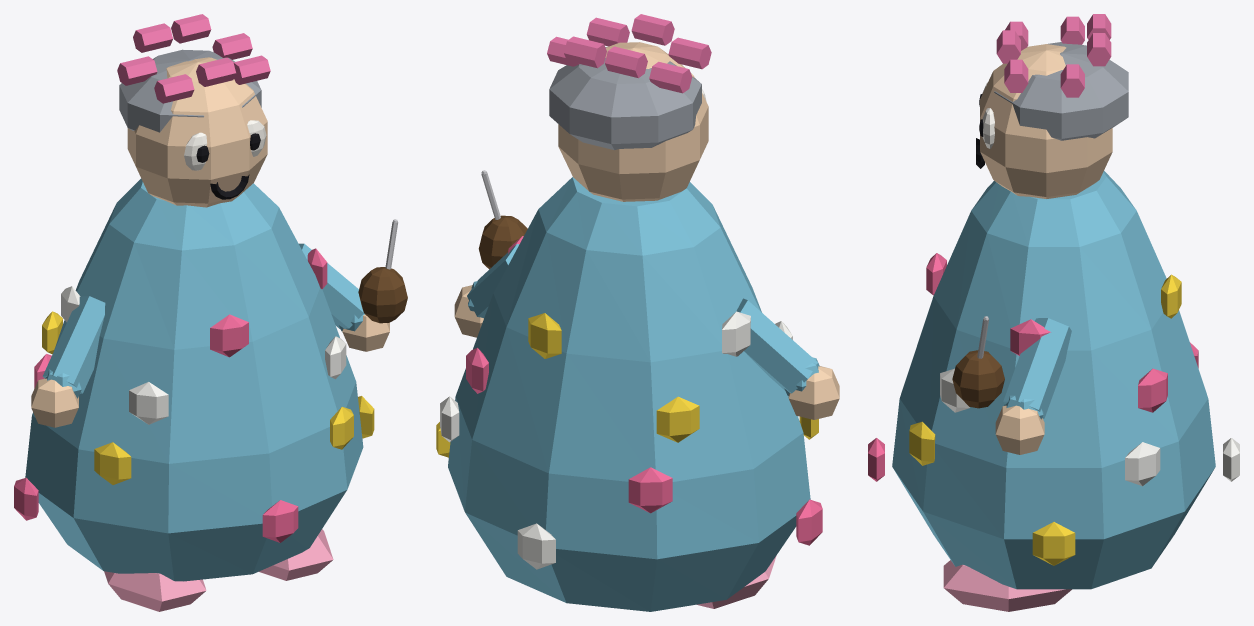
The model's file is npc_chola.glb.
3 views of the same model, side by side, from view 1: azimuth 30°, elevation 25°; view 2: azimuth 150°, elevation 25°; view 3: azimuth 270°, elevation 25° (orthographic). The views are drawn at different scales.
Visible parts, largest first — view 1: body_robe_floral, head_skin_crema, head_curler_pink, arms_robe_floral, legs_slippers, body_flower_pink, body_flower_yellow, head_hair_gray, arms_skin_crema, body_flower_white, props_mate_gourd, face_white (+1 smaller); view 2: body_robe_floral, head_hair_gray, head_skin_crema, head_curler_pink, arms_robe_floral, body_flower_pink, body_flower_yellow, body_flower_white, arms_skin_crema, props_mate_gourd, legs_slippers; view 3: body_robe_floral, head_skin_crema, head_hair_gray, head_curler_pink, arms_robe_floral, body_flower_pink, legs_slippers, body_flower_yellow, body_flower_white, props_mate_gourd, arms_skin_crema.
Boxes of the visible parts, x1,y1,x2,y2 form: body_robe_floral: (25,178,363,581); head_skin_crema: (127,57,267,207); head_curler_pink: (117,14,270,103); arms_robe_floral: (42,243,364,398); legs_slippers: (104,529,333,611); body_flower_pink: (14,248,327,542); body_flower_yellow: (42,311,374,484); head_hair_gray: (119,49,261,132); arms_skin_crema: (31,314,389,427); body_flower_white: (61,286,346,424); props_mate_gourd: (358,267,407,323); face_white: (184,120,266,170); body_robe_floral: (448,177,810,611); head_hair_gray: (549,47,701,150); head_skin_crema: (558,42,708,201); head_curler_pink: (547,14,711,93); arms_robe_floral: (467,244,819,395); body_flower_pink: (466,236,822,545); body_flower_yellow: (436,313,818,457); body_flower_white: (440,311,792,569); arms_skin_crema: (454,285,839,419); props_mate_gourd: (478,215,527,269); legs_slippers: (697,555,776,608); body_robe_floral: (892,171,1215,589); head_skin_crema: (980,44,1112,198); head_hair_gray: (994,42,1128,140); head_curler_pink: (996,14,1111,97); arms_robe_floral: (1003,318,1071,419); body_flower_pink: (868,253,1198,481); legs_slippers: (943,560,1071,611); body_flower_yellow: (909,274,1181,565); body_flower_white: (940,368,1239,486); props_mate_gourd: (952,350,1004,408); arms_skin_crema: (995,405,1044,454).
Size of the model in its own units: 1.13 by 1.59 by 0.9878.
